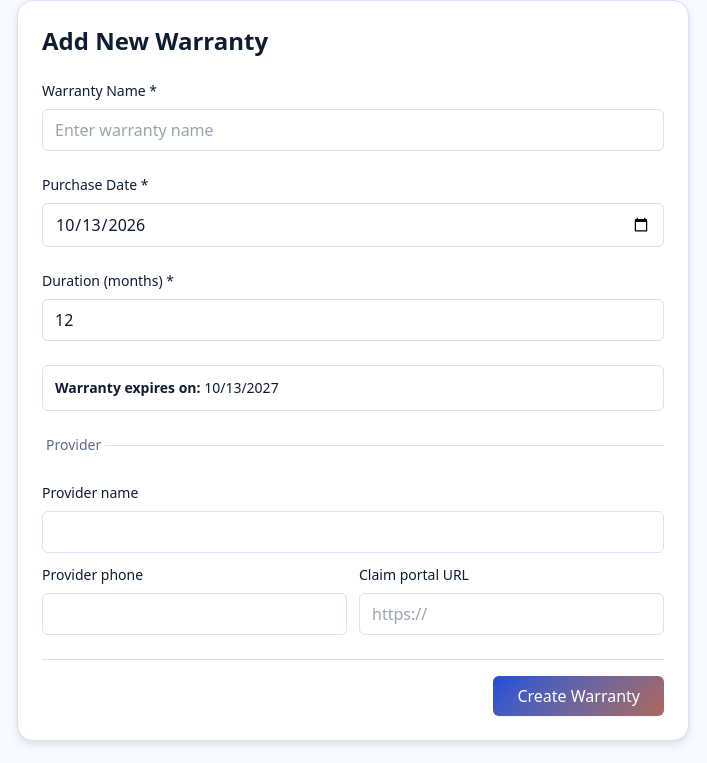
<WarrantyForm /> validation › rejects a duration below 1 month
Replace the text in the number field labelled "Duration (months) *" with "0". click: (353, 320)
box: [42, 299, 664, 341]
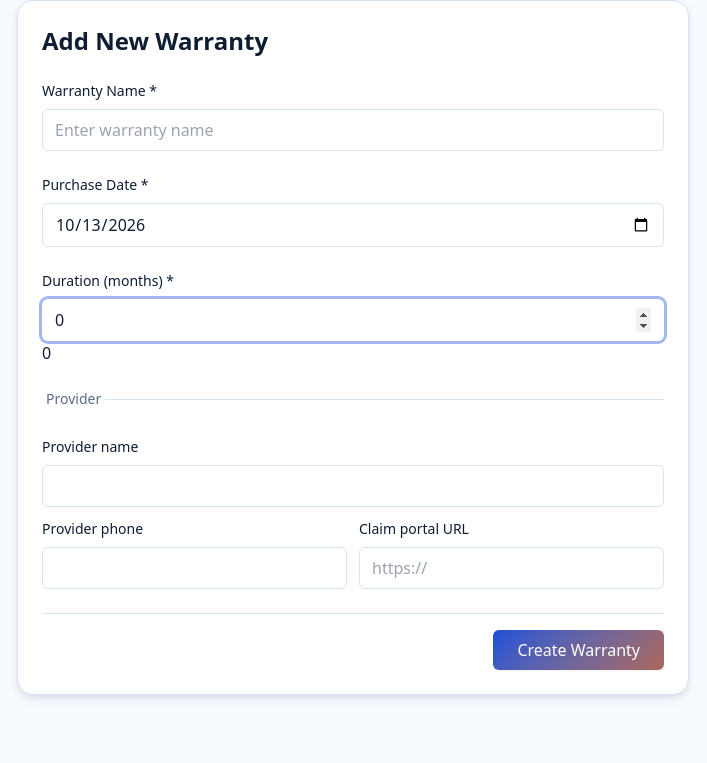
Type "Laptop" into the field labelled "Warranty Name *". click: (353, 130)
box: [42, 109, 664, 151]
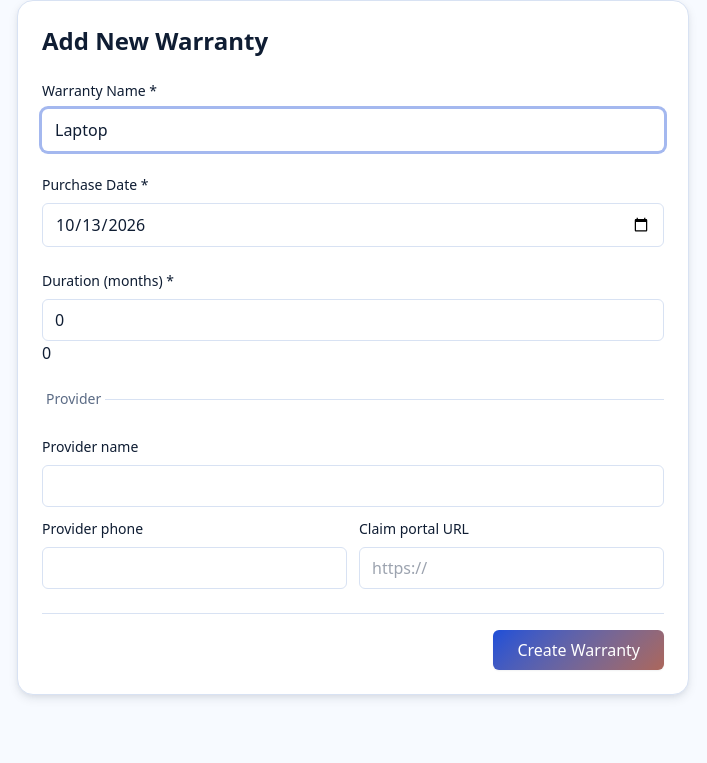
Click the button "Create Warranty". click: (579, 650)
box: [493, 630, 664, 670]
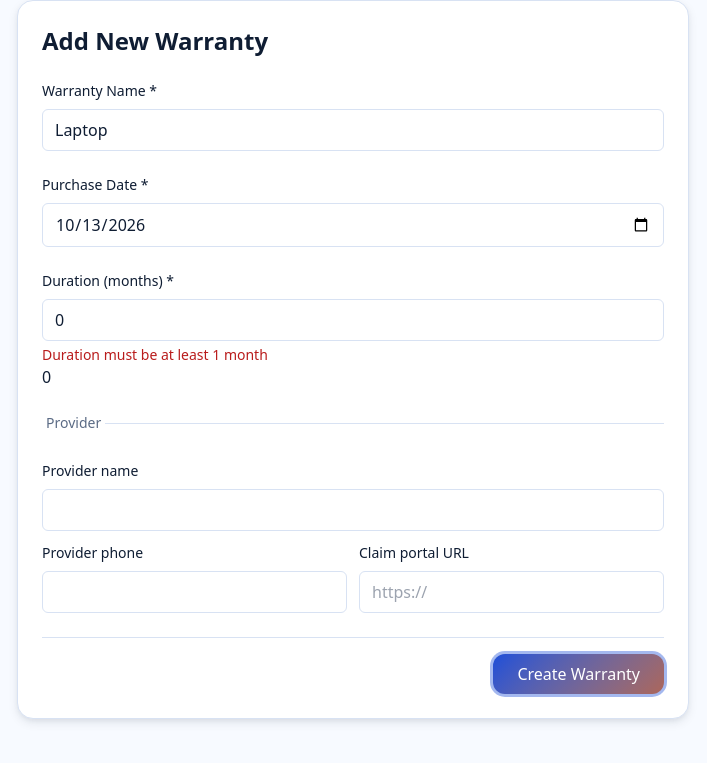
Check: the text "Duration must be at least 1 month" is shown, box [42, 345, 268, 364]
